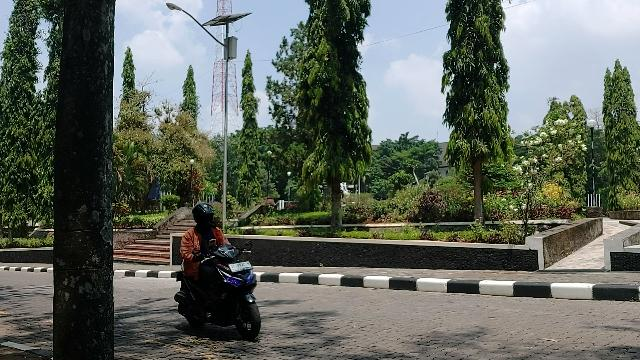motor: (177, 246, 262, 341), (193, 204, 215, 226)
